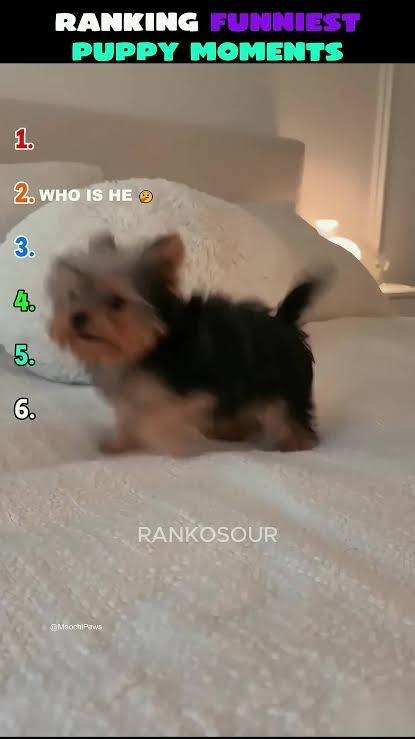puppy-dog: (43, 228, 328, 458)
